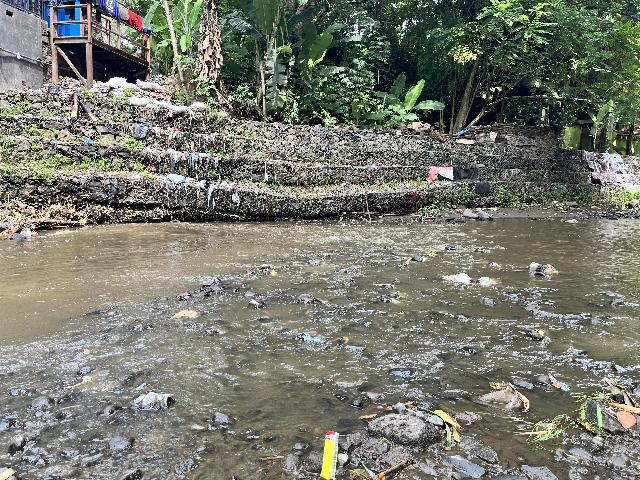Sampah Anorganik: (477, 378, 523, 407), (318, 428, 343, 480), (540, 372, 571, 391), (526, 261, 561, 276), (440, 271, 468, 284), (298, 331, 320, 342), (477, 276, 495, 286), (371, 283, 395, 290), (425, 252, 439, 259), (339, 268, 349, 271)
Sampah Organik: (361, 405, 468, 447), (576, 382, 640, 433), (526, 419, 568, 445), (351, 462, 408, 480), (46, 382, 88, 390), (171, 310, 200, 319), (528, 328, 549, 339), (255, 454, 284, 461), (335, 335, 347, 344), (174, 294, 193, 299), (304, 296, 315, 304), (319, 256, 327, 263), (270, 270, 277, 276), (404, 260, 410, 266)
